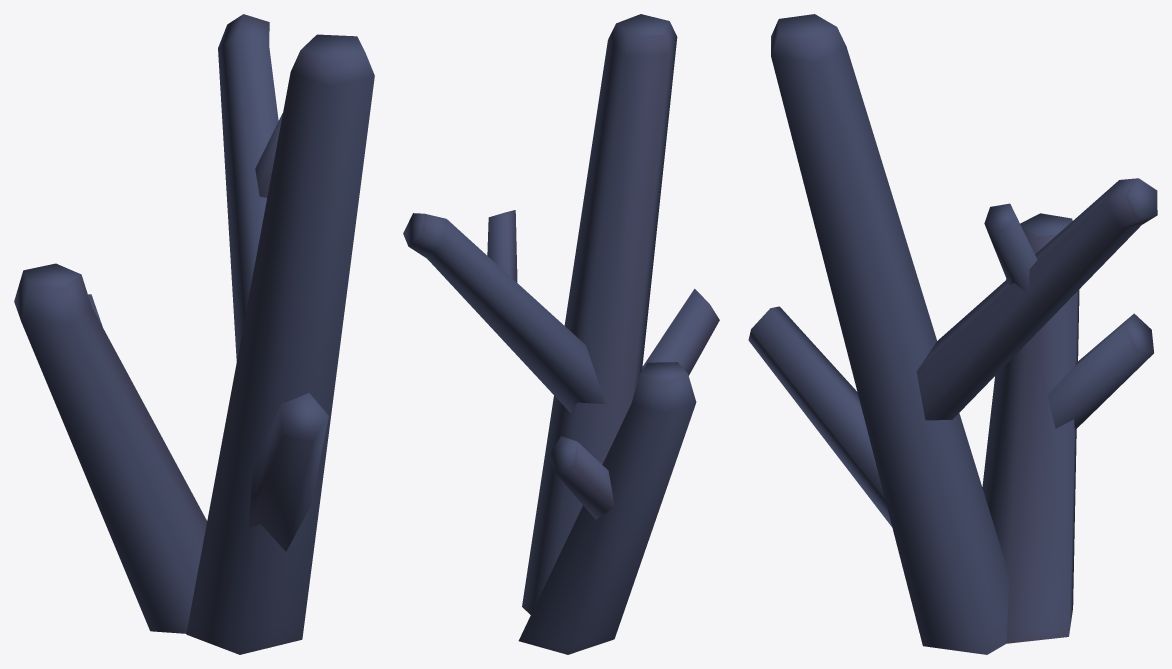
File: Sunken Tomb Sharp Coral 1.fbx
The picture shows the model from 3 angles, left to right: view 1: azimuth 30°, elevation 25°; view 2: azimuth 150°, elevation 25°; view 3: azimuth 270°, elevation 25°; orthographic projection. The views are drawn at different scales.
Visible parts, largest first — view 1: Sharp Coral 1; view 2: Sharp Coral 1; view 3: Sharp Coral 1.
Part boxes in pixels (x1,y1,x2,y2): Sharp Coral 1: (14, 14, 374, 654); Sharp Coral 1: (403, 14, 719, 654); Sharp Coral 1: (748, 14, 1157, 654).
Size of the model in its own units: 294 by 602 by 369.
